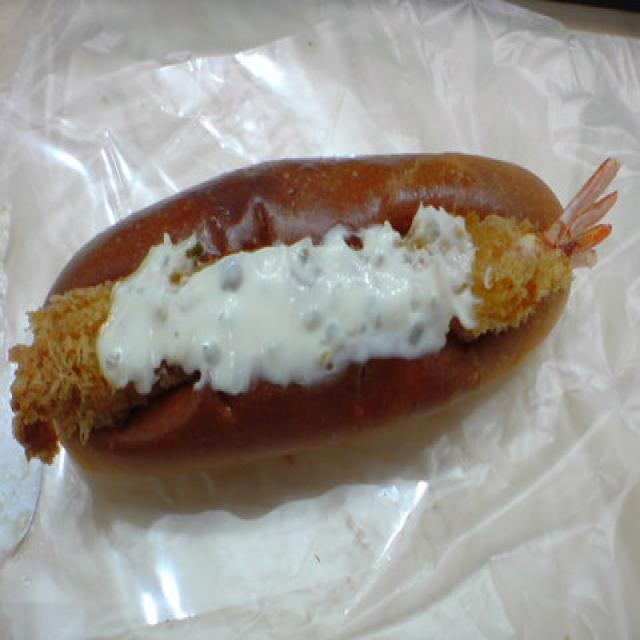三明治: (5, 135, 624, 485)
